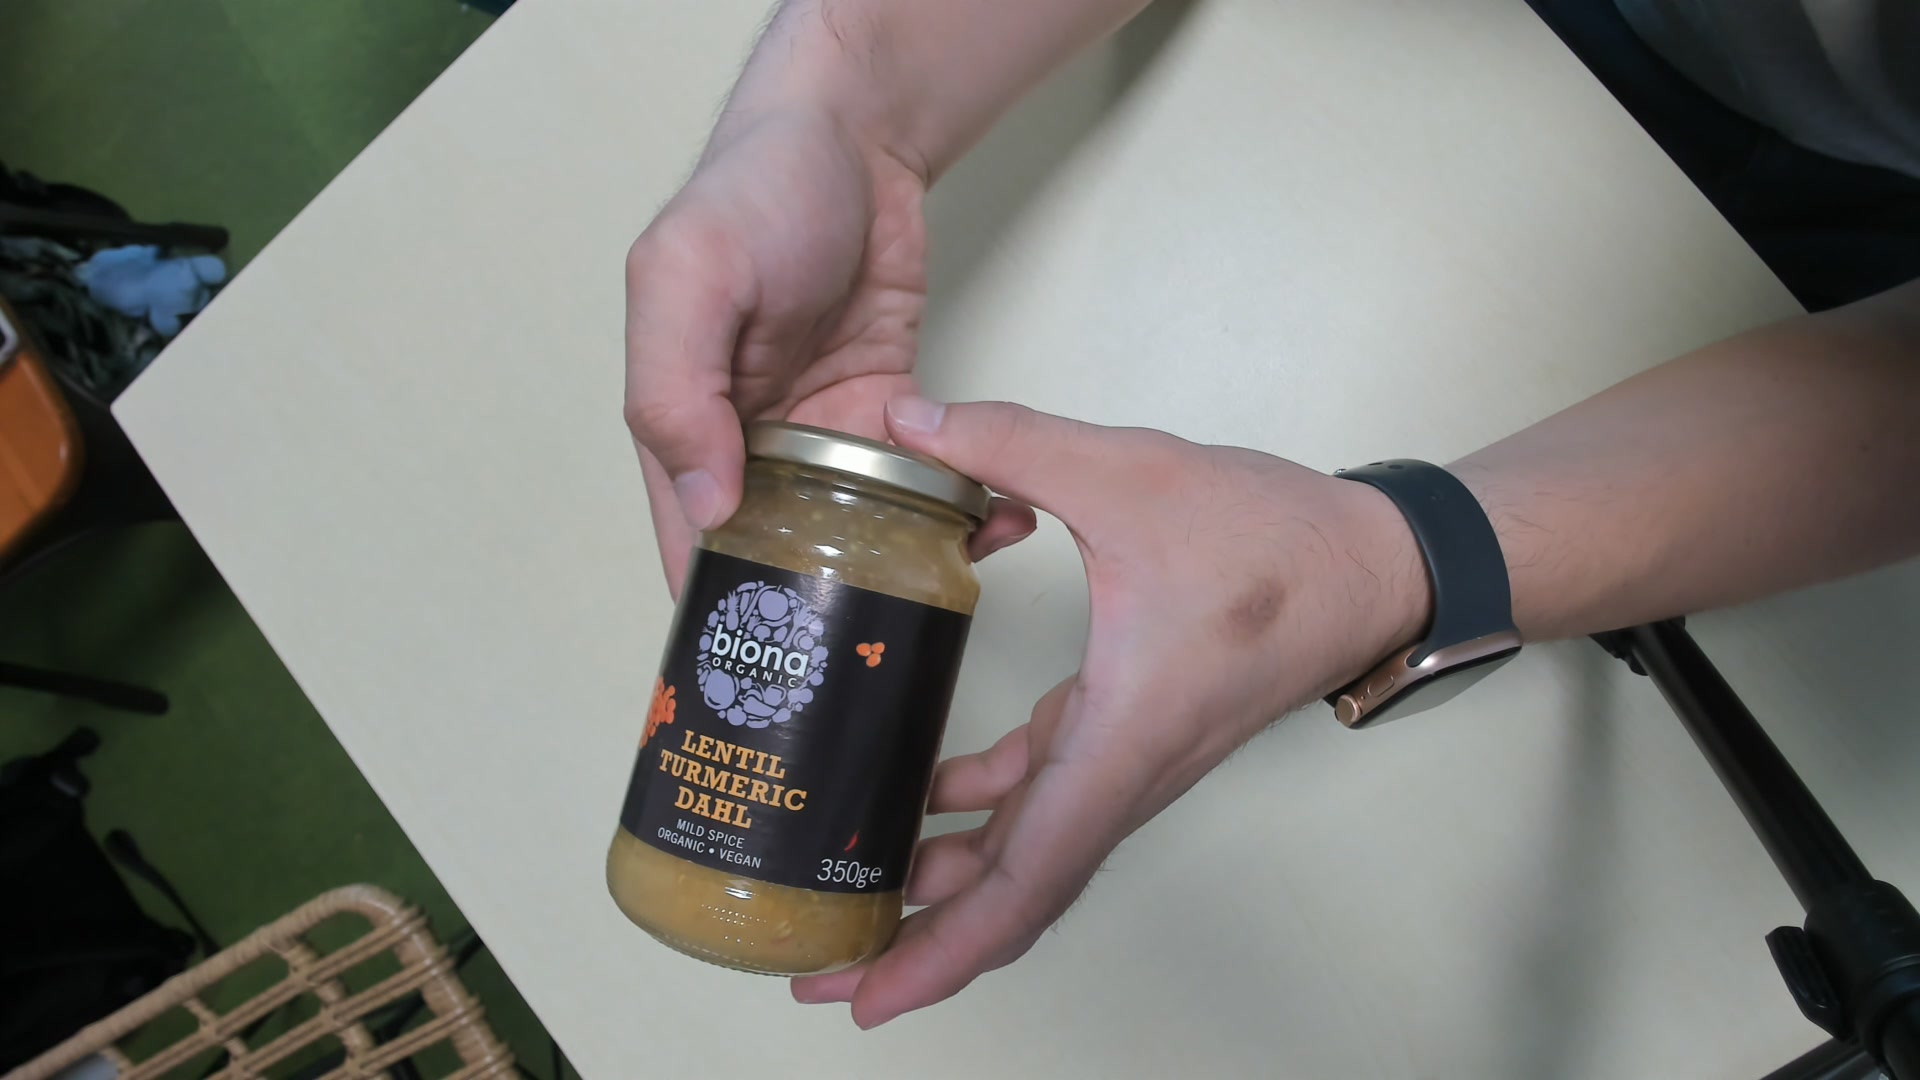OtherSauceDressing_300-399g_NonHalal_NonHealthy: (608, 419, 986, 968)
